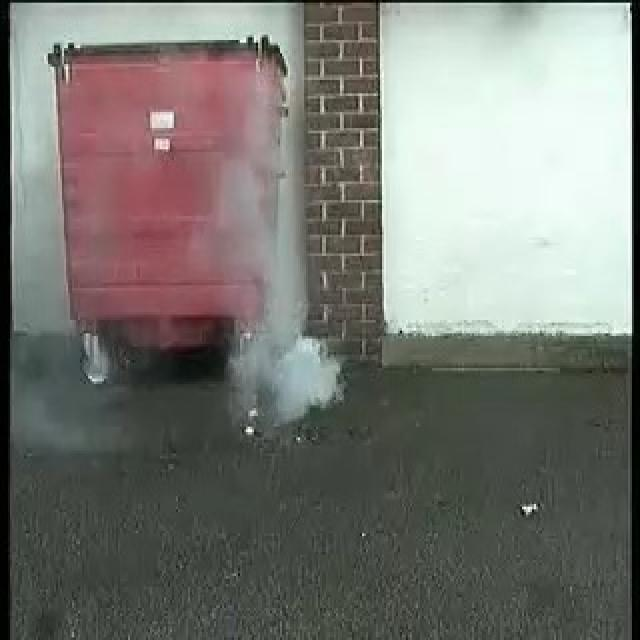Smoke: (220, 108, 343, 418), (223, 306, 224, 308)
